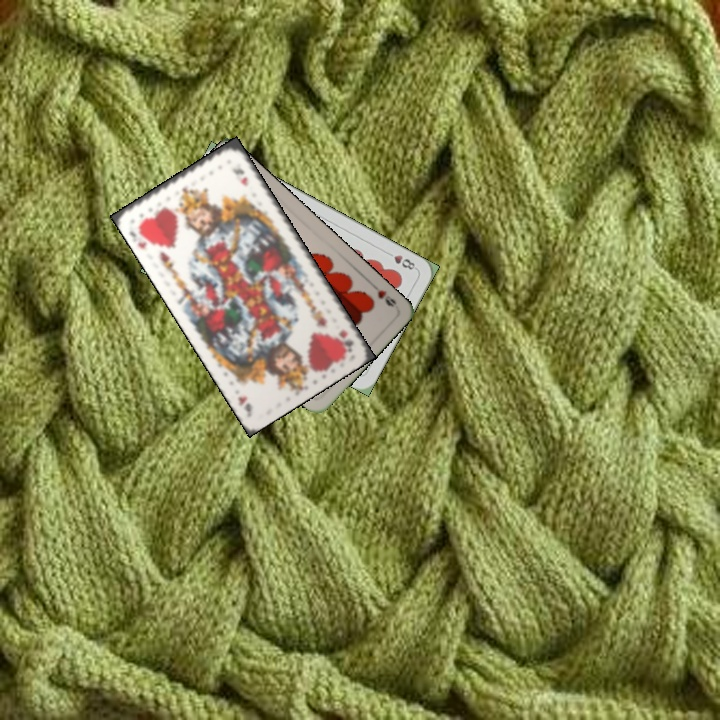H8: (382, 248, 420, 273)
H9: (373, 286, 399, 310)
HK: (335, 326, 356, 355), (125, 227, 149, 252)
